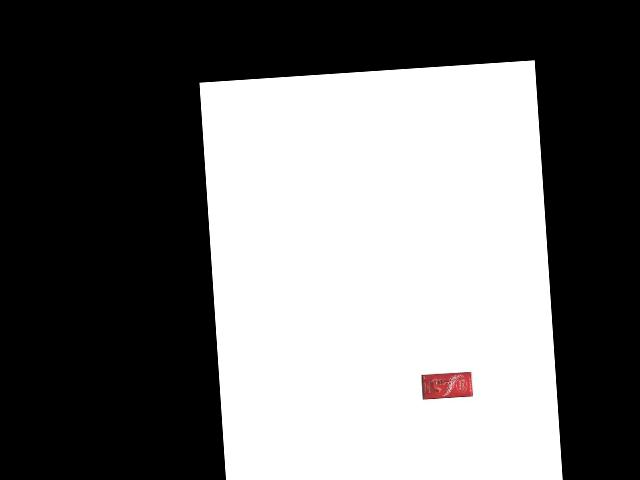chocolate: (417, 369, 474, 400)
